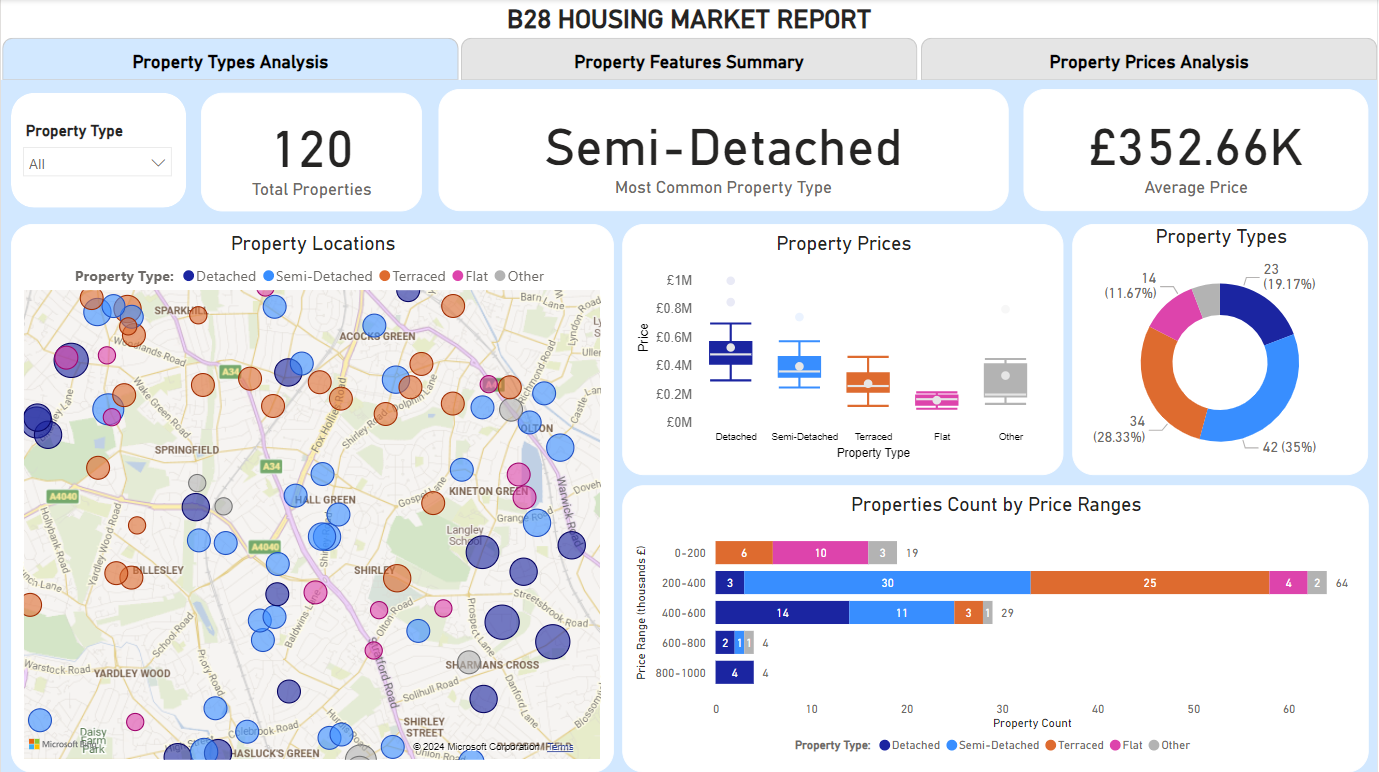

This screenshot's page, from the dashboard's own definition file:
{"tool":"powerbi","page":{"name":"Property_Type_Summary","canvas":[1280,720],"ordinal":0},"visuals":[{"type":"map","title":"Property Locations","fields":{"Y":["Power_BI_data.latitude"],"X":["Power_BI_data.longitude"],"Series":["Power_BI_data.type_copy"],"Size":["Avg(Power_BI_data.range_code)"]},"box":[9.3,209.3,560.5,510.5],"z":0},{"type":"barChart","title":"Properties Count by Price Ranges","fields":{"Category":["Power_BI_data.price_range"],"Y":["CountNonNull(Power_BI_data.price_range)"],"Series":["Power_BI_data.type_copy"]},"box":[577.9,452.3,694.2,267.4],"z":1000},{"type":"donutChart","title":"Property Types","fields":{"Category":["Power_BI_data.type_copy"],"Y":["CountNonNull(Power_BI_data.type)"]},"box":[996.5,209.3,275.6,233.7],"z":2000},{"type":"card","fields":{"Values":["CountNonNull(Power_BI_data.price)"]},"box":[186,87.2,205.8,110.5],"z":3000},{"type":"card","fields":{"Values":["Avg(Power_BI_data.price)"]},"box":[951.2,83.7,320.9,114],"z":4000},{"type":"BoxWhiskerChart1455240051538","title":"Property Prices","fields":{"Values":["Avg(Power_BI_data.price)"],"Samples":["Power_BI_data.price"],"Groups":["Power_BI_data.type_copy"]},"box":[577.9,209.3,410.5,233.7],"z":5000},{"type":"card","fields":{"Values":["Power_BI_data.MostFrequentValue"]},"box":[407,83.7,530.2,114],"z":6000},{"type":"textbox","box":[0,0,1280.2,75.6],"z":7000},{"type":"actionButton","box":[1.2,36,424.4,39.5],"z":8000},{"type":"actionButton","title":"d","box":[427.9,36,424.4,39.5],"z":9000},{"type":"actionButton","box":[855.8,36,424.4,39.5],"z":10000},{"type":"shape","box":[9.3,87.2,163,107],"z":11000},{"type":"slicer","fields":{"Values":["Power_BI_data.type_copy"]},"box":[9.3,108.1,160.5,69.8],"z":12000}]}

Visuals, with their boxes in screenshot pixels (x1, y1, x2, y2), scaled from the page's 1280x720 canvas onto the 1379x772 screenshot:
"Property Locations" map: [10, 224, 614, 771]
"Properties Count by Price Ranges" barChart: [623, 485, 1370, 771]
"Property Types" donutChart: [1074, 224, 1370, 475]
card - CountNonNull(Power_BI_data.price): [200, 93, 422, 212]
card - Avg(Power_BI_data.price): [1025, 90, 1370, 212]
"Property Prices" BoxWhiskerChart1455240051538: [623, 224, 1065, 475]
card - Power_BI_data.MostFrequentValue: [438, 90, 1010, 212]
textbox: [0, 0, 1378, 81]
actionButton: [1, 39, 459, 81]
"d" actionButton: [461, 39, 918, 81]
actionButton: [922, 39, 1378, 81]
shape: [10, 93, 186, 208]
slicer - Power_BI_data.type_copy: [10, 116, 183, 191]
